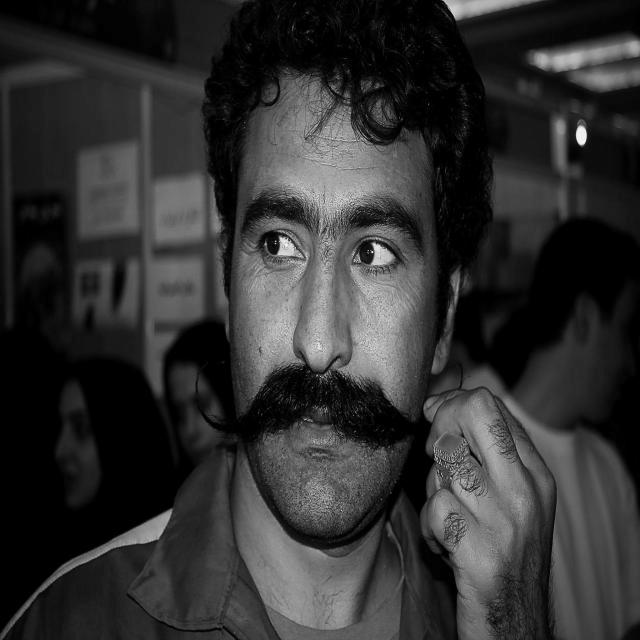real: (225, 108, 453, 545), (242, 183, 412, 289)
